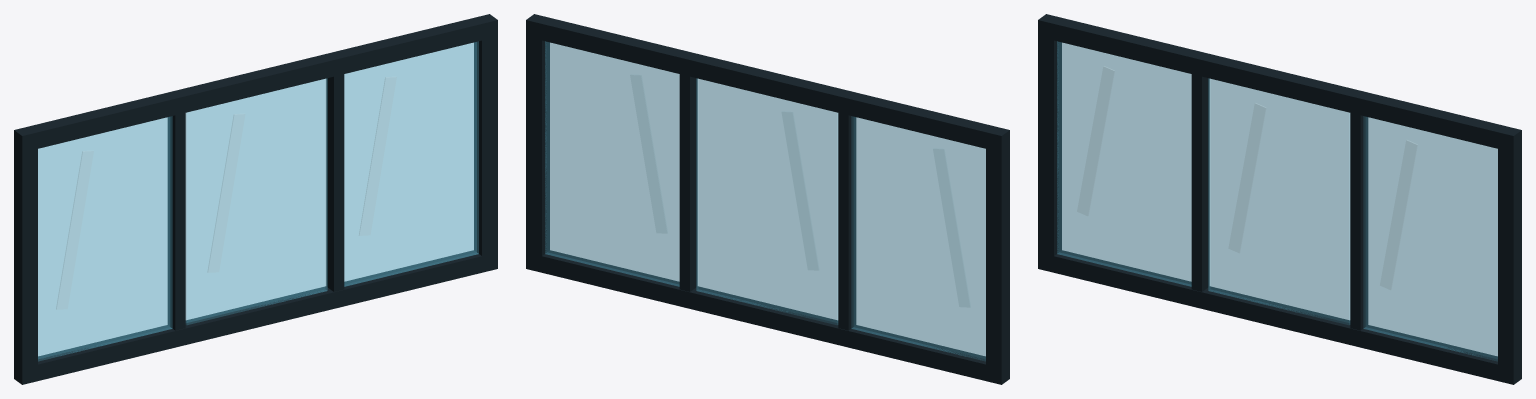
File: window_3pan_1level.glb
3 renders of one model, left to right at view 1: azimuth 30°, elevation 25°; view 2: azimuth 150°, elevation 25°; view 3: azimuth 330°, elevation 25°, orthographic.
Parts seen in each view (by area): view 1: Glass_Pane_2, Glass_Pane_3, Glass_Pane_1, Frame_Top, Frame_Bottom, Frame_Left, Frame_Right, Mullion_2, Mullion_1, Reflection_Stripe_1, Reflection_Stripe_2, Reflection_Stripe_3; view 2: Glass_Pane_2, Glass_Pane_3, Glass_Pane_1, Frame_Top, Frame_Bottom, Frame_Left, Frame_Right, Mullion_2, Mullion_1, Reflection_Stripe_3, Reflection_Stripe_2, Reflection_Stripe_1; view 3: Glass_Pane_2, Glass_Pane_1, Glass_Pane_3, Frame_Top, Frame_Bottom, Frame_Right, Frame_Left, Mullion_1, Mullion_2, Reflection_Stripe_1, Reflection_Stripe_2, Reflection_Stripe_3.
Boxes of the visible parts, x1,y1,x2,y2 form: Glass_Pane_2: (185, 78, 327, 324); Glass_Pane_3: (344, 41, 478, 286); Glass_Pane_1: (38, 116, 172, 361); Frame_Top: (14, 14, 497, 152); Frame_Bottom: (14, 250, 497, 384); Frame_Left: (14, 147, 37, 368); Frame_Right: (474, 36, 497, 255); Mullion_2: (326, 74, 344, 291); Mullion_1: (167, 113, 185, 330); Reflection_Stripe_1: (56, 151, 93, 309); Reflection_Stripe_2: (208, 114, 244, 272); Reflection_Stripe_3: (359, 77, 396, 235); Glass_Pane_2: (696, 78, 838, 324); Glass_Pane_3: (545, 41, 679, 286); Glass_Pane_1: (851, 116, 985, 361); Frame_Top: (526, 14, 1009, 152); Frame_Bottom: (526, 250, 1009, 384); Frame_Left: (986, 147, 1009, 368); Frame_Right: (526, 36, 549, 255); Mullion_2: (679, 74, 697, 291); Mullion_1: (838, 113, 856, 330); Reflection_Stripe_3: (630, 75, 666, 232); Reflection_Stripe_2: (782, 112, 817, 269); Reflection_Stripe_1: (933, 149, 969, 306); Glass_Pane_2: (1208, 78, 1350, 324); Glass_Pane_1: (1057, 41, 1191, 286); Glass_Pane_3: (1363, 116, 1497, 361); Frame_Top: (1038, 14, 1521, 152); Frame_Bottom: (1038, 250, 1521, 384); Frame_Right: (1498, 147, 1521, 368); Frame_Left: (1038, 36, 1061, 255); Mullion_1: (1191, 74, 1209, 291); Mullion_2: (1350, 113, 1368, 330); Reflection_Stripe_1: (1077, 66, 1114, 215); Reflection_Stripe_2: (1229, 103, 1265, 252); Reflection_Stripe_3: (1380, 140, 1417, 289).
Bounding box in the file's own units: 3 × 1.5 × 0.09.
